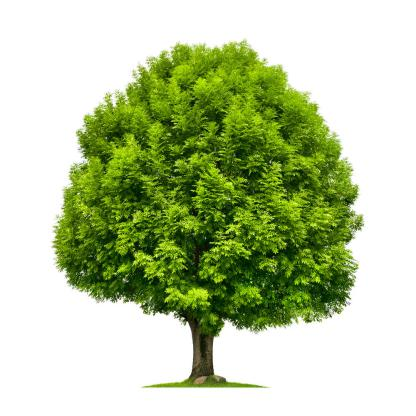Tree: (46, 41, 372, 384)
